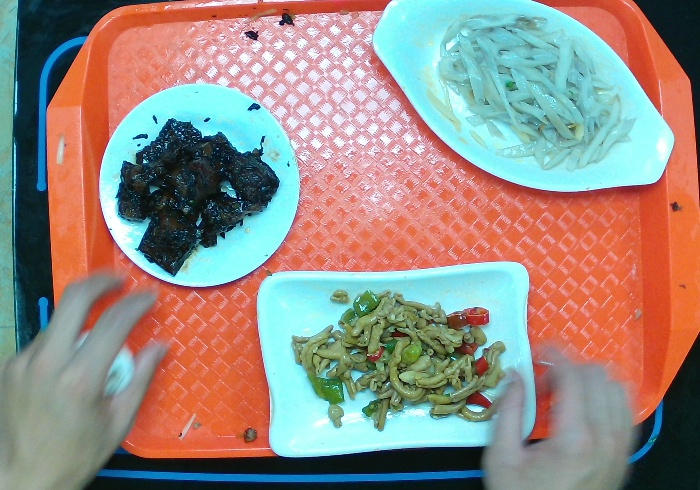RJxy-Si_Fang_Ao_Bian_Wan: (246, 262, 546, 463)
RJxy-Xiao_Yuan_Die: (94, 81, 307, 291)
RJxy-Yu_Pan: (372, 1, 683, 199)
